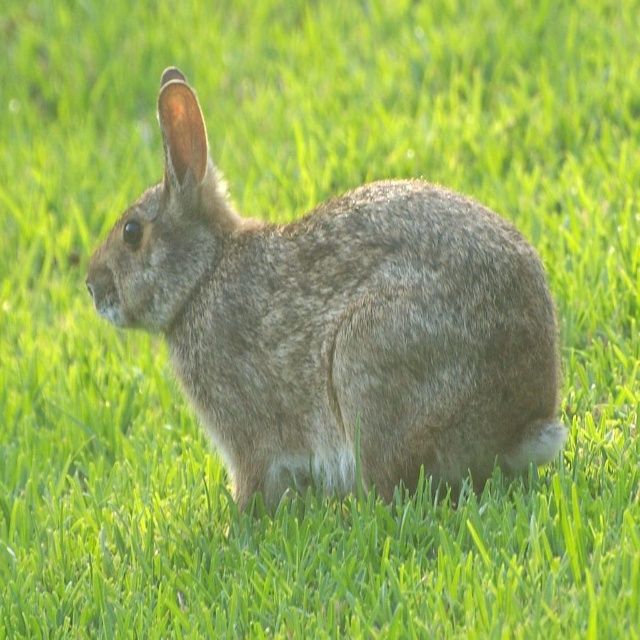Rabbit: (86, 67, 568, 520)
